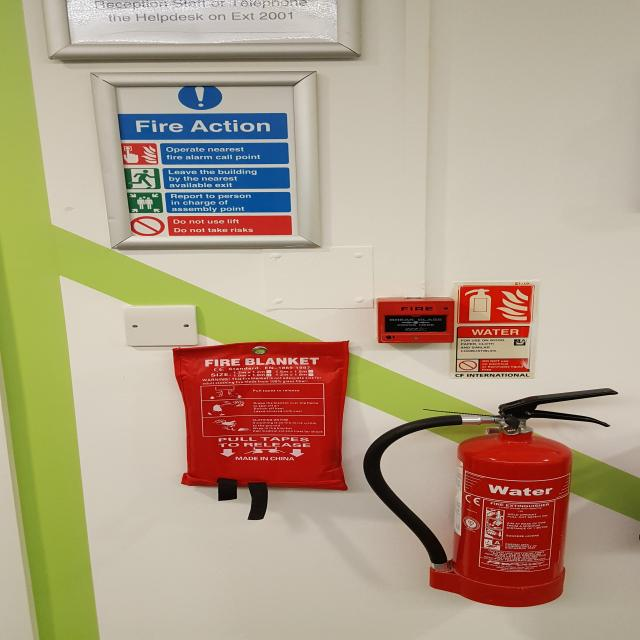fire_extinguisher: (358, 384, 623, 608)
